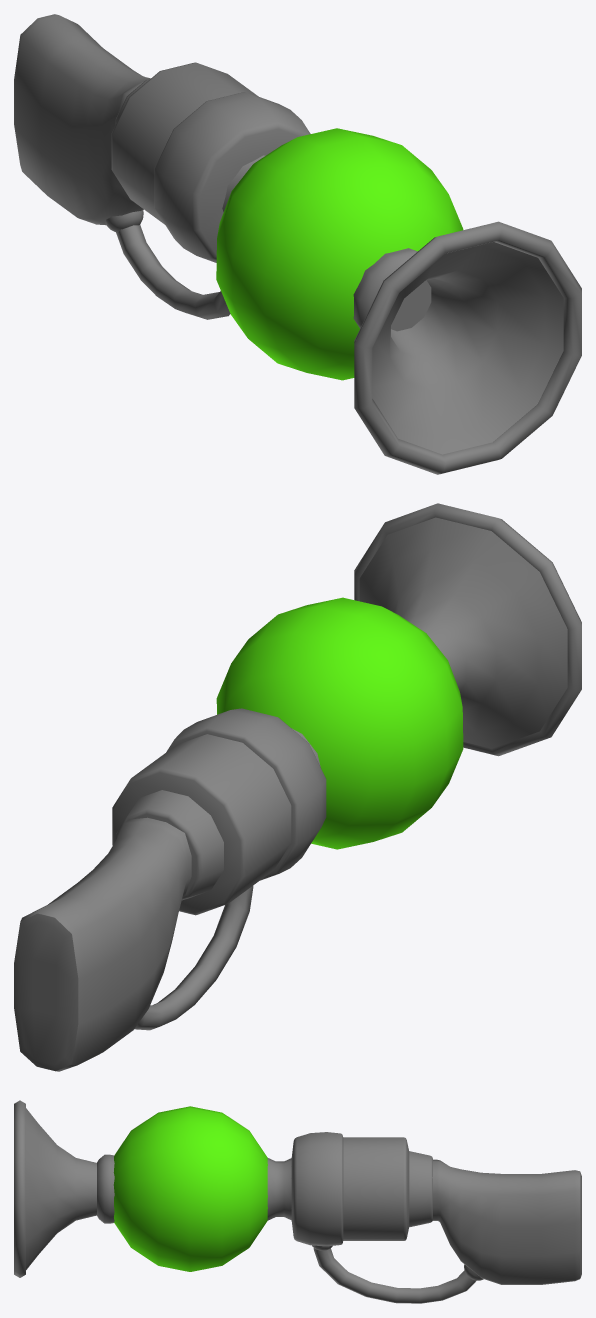
File: Gun_05.fbx
3 renders of one model, top to bottom at view 1: azimuth 30°, elevation 25°; view 2: azimuth 150°, elevation 25°; view 3: azimuth 270°, elevation 25°, orthographic. The views are drawn at different scales.
Visible parts, largest first — view 1: Gun_05; view 2: Gun_05; view 3: Gun_05.
Part boxes in pixels (x1,y1,x2,y2): Gun_05: [14, 14, 581, 474]; Gun_05: [14, 503, 581, 1071]; Gun_05: [14, 1100, 581, 1303].
Bounding box in the file's own units: 23.05 × 28.22 × 75.05.
